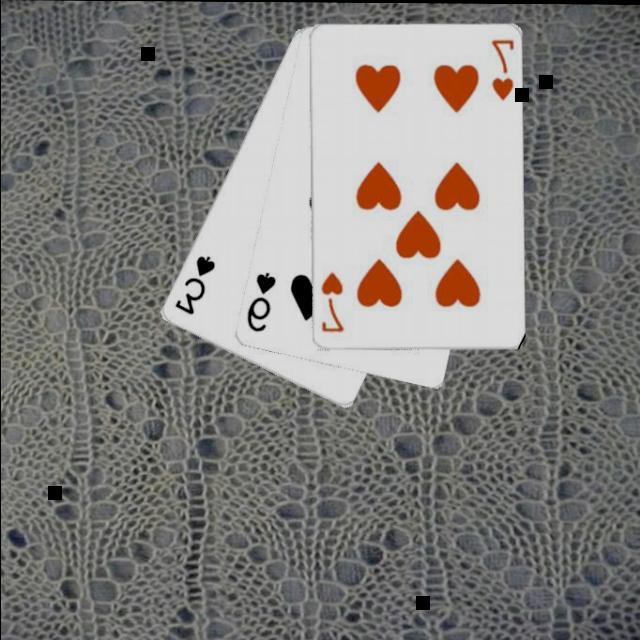3S: (169, 250, 216, 316)
6S: (242, 268, 276, 334)
7H: (316, 268, 344, 334), (486, 35, 514, 101)
